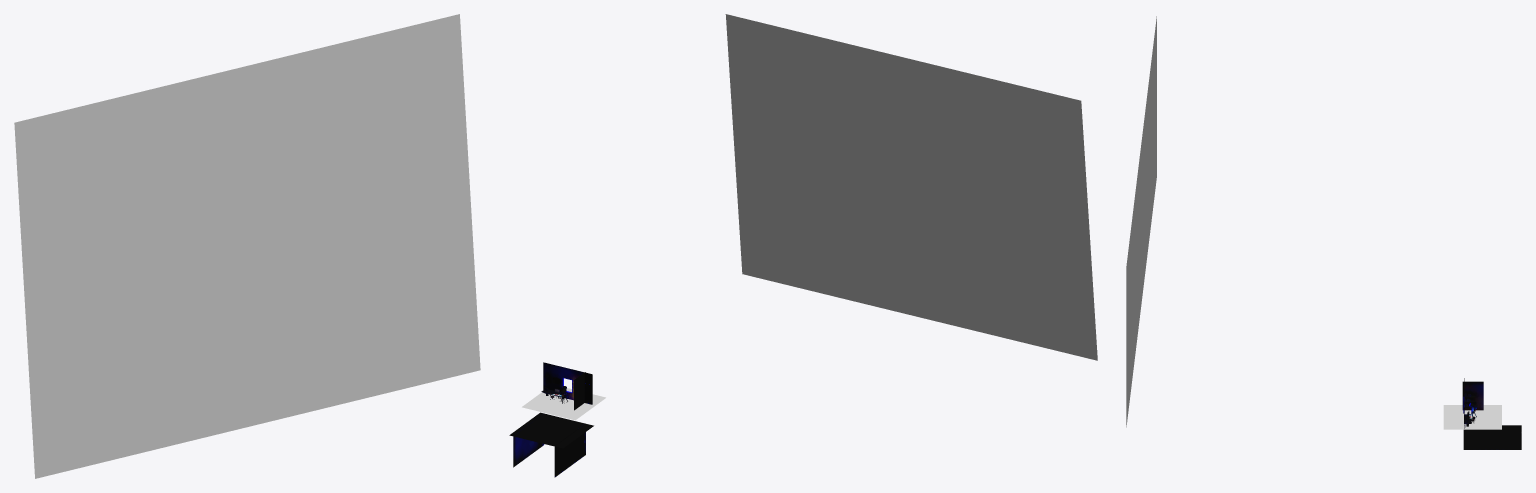
The model's file is Cena_Telescopio_EXP.fbx.
3 views of the same model, side by side, from view 1: azimuth 30°, elevation 25°; view 2: azimuth 150°, elevation 25°; view 3: azimuth 270°, elevation 25° (orthographic). The views are drawn at different scales.
Visible parts, largest first — view 1: FundoJanela; view 2: FundoJanela, ParedeBack, PareceFront, Chao; view 3: FundoJanela, ParedeBack, Chao, PareceFront.
Part boxes in pixels (x1,y1,x2,y2): FundoJanela: [14, 14, 480, 478]; FundoJanela: [725, 14, 1097, 360]; ParedeBack: [509, 412, 593, 477]; PareceFront: [543, 362, 592, 410]; Chao: [522, 388, 605, 420]; FundoJanela: [1126, 16, 1156, 427]; ParedeBack: [1463, 425, 1521, 449]; Chao: [1443, 405, 1501, 429]; PareceFront: [1462, 378, 1483, 428].
Size of the model in its own units: 498 by 397 by 485.
